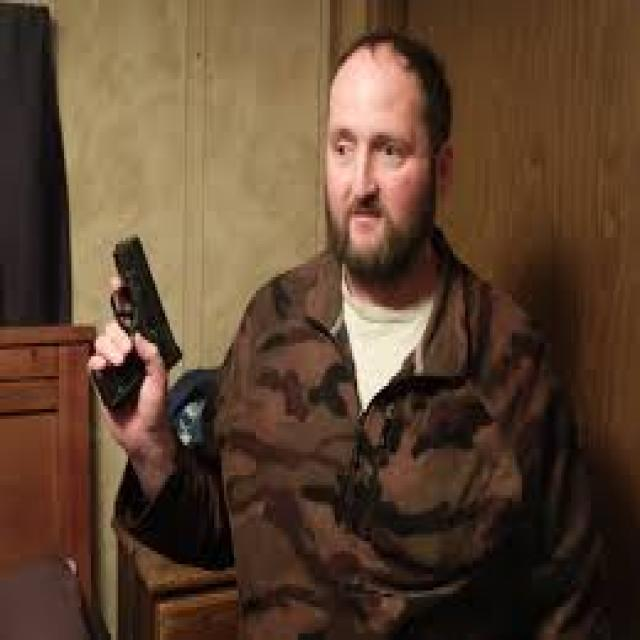weapons: (79, 220, 202, 422)
